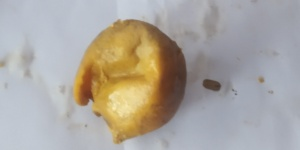BAD: (73, 19, 188, 140)
